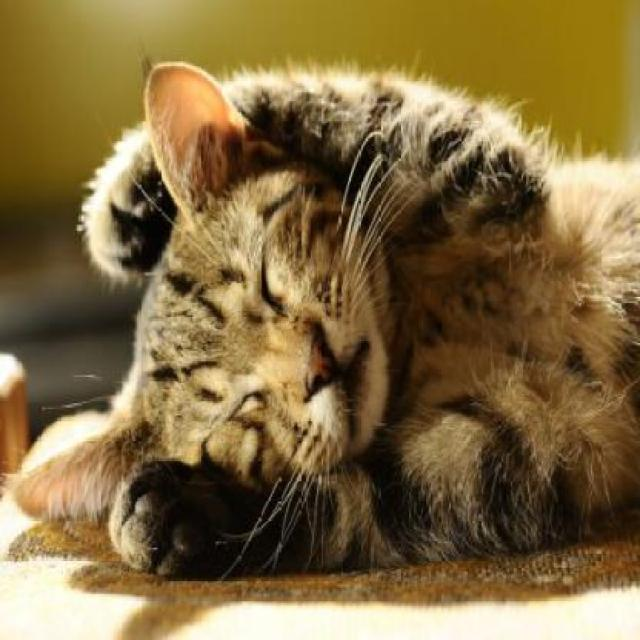cat: (9, 54, 638, 583)
